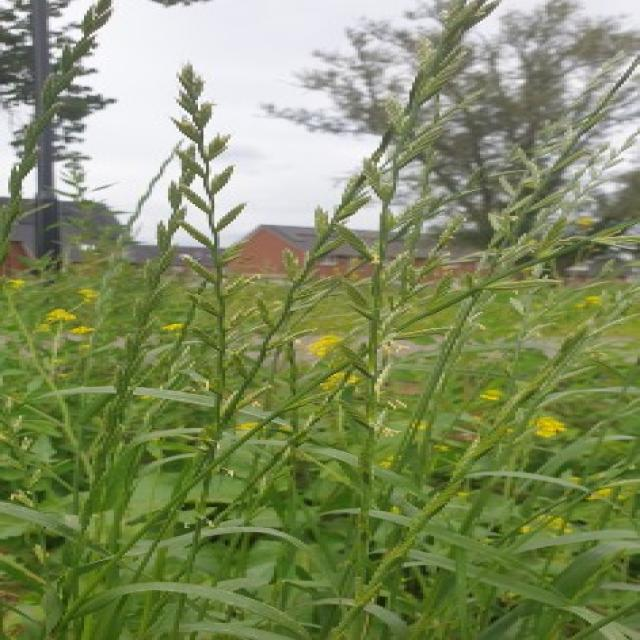Lolium: (353, 2, 491, 484), (153, 63, 254, 459)
